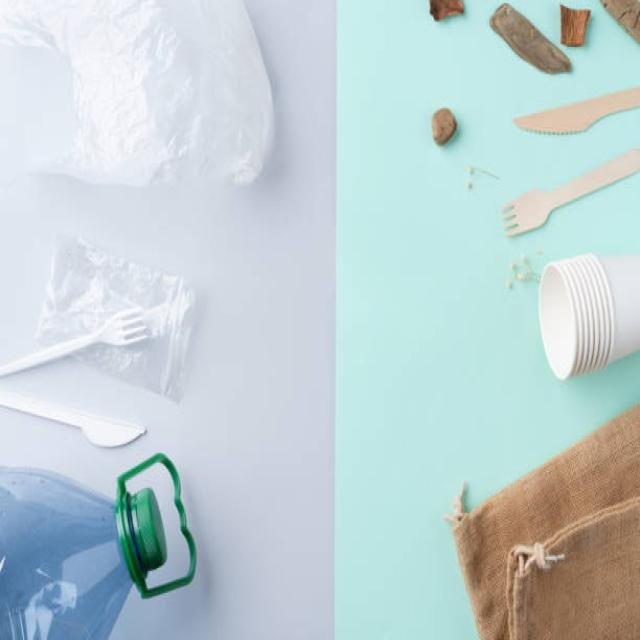plastic: (3, 1, 230, 626)
